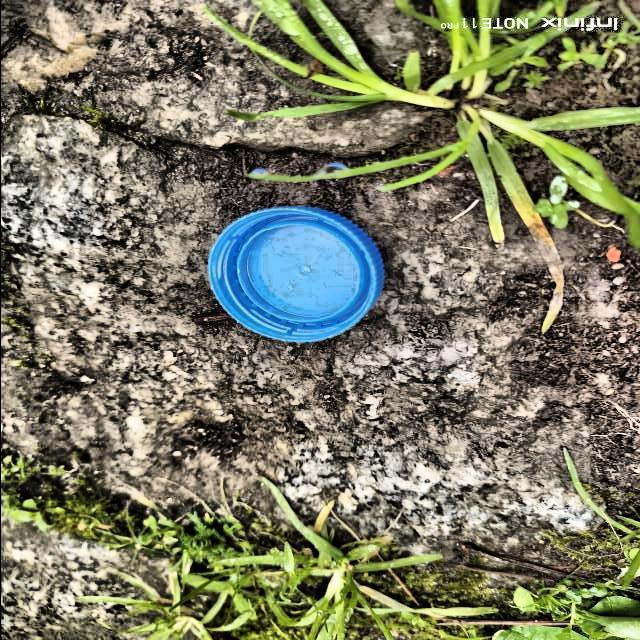plastic: (209, 208, 384, 342)
